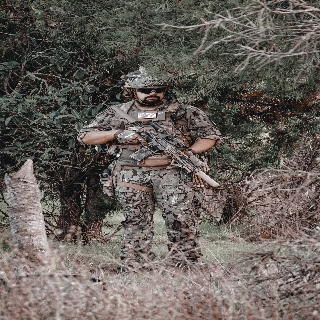rifle: (109, 103, 221, 190)
